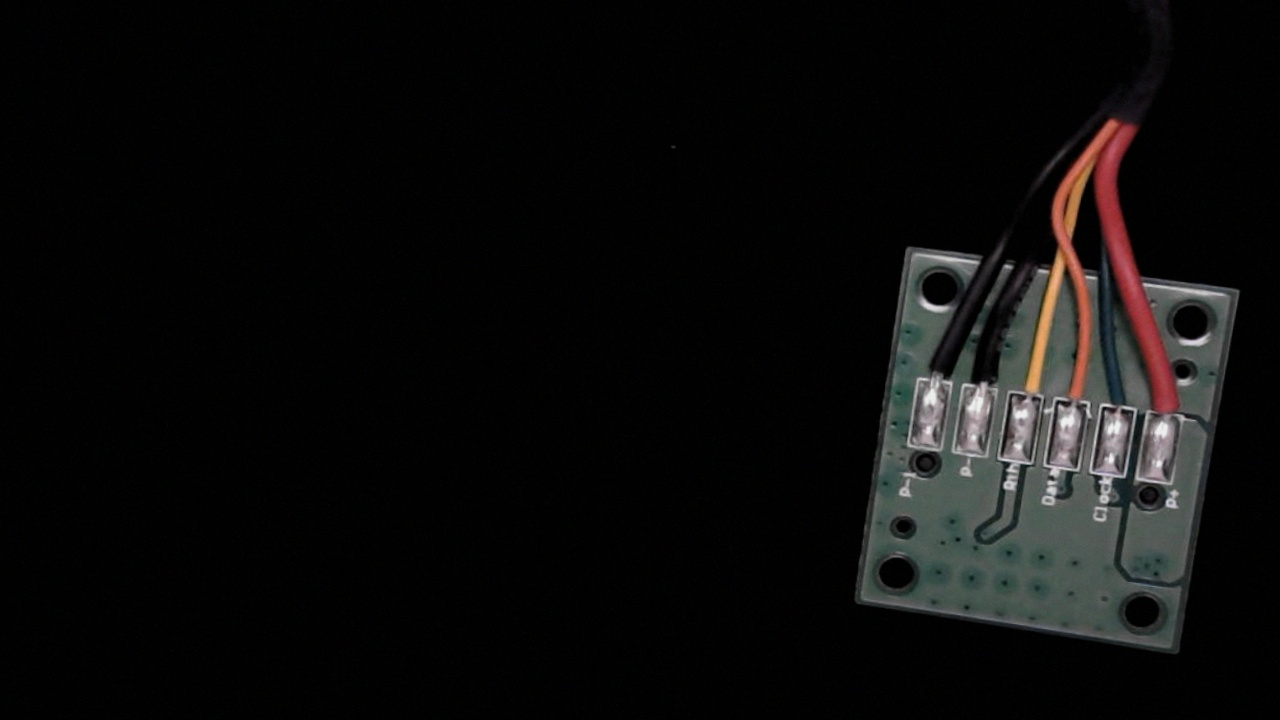Black: (961, 334, 1007, 403)
Black1: (915, 328, 961, 398)
Green: (1098, 358, 1147, 425)
Orange: (1055, 348, 1098, 417)
Red: (1144, 360, 1195, 433)
Yellow: (1006, 337, 1055, 411)
